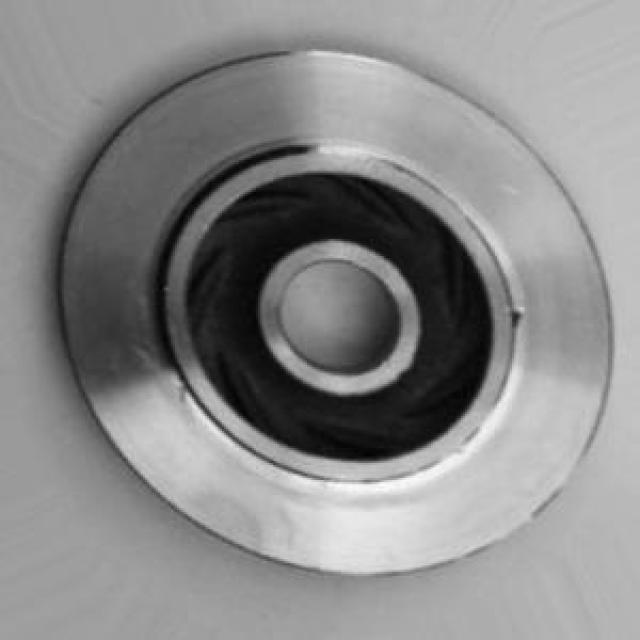Defect: (504, 302, 543, 345)
